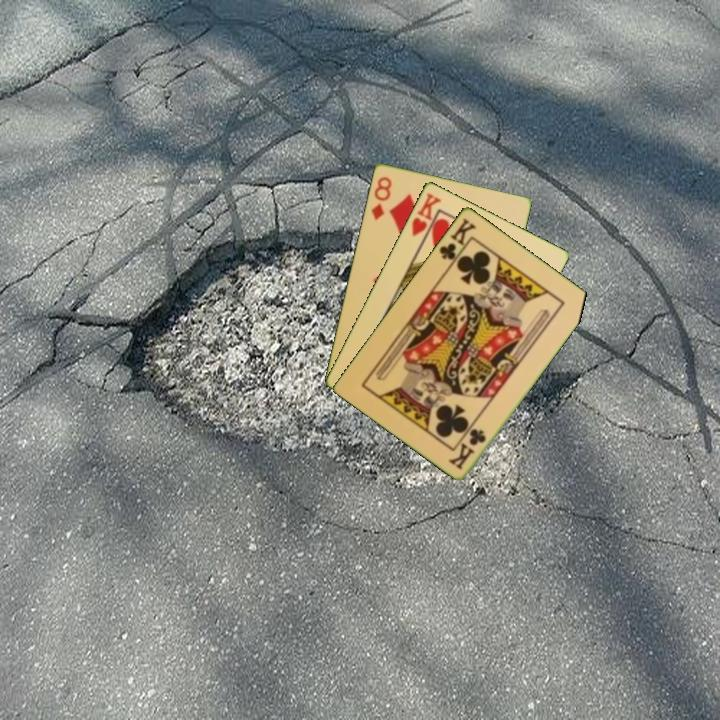8d: (367, 173, 394, 223)
Kc: (435, 214, 479, 269), (446, 424, 489, 472)
Kh: (408, 189, 444, 246)
